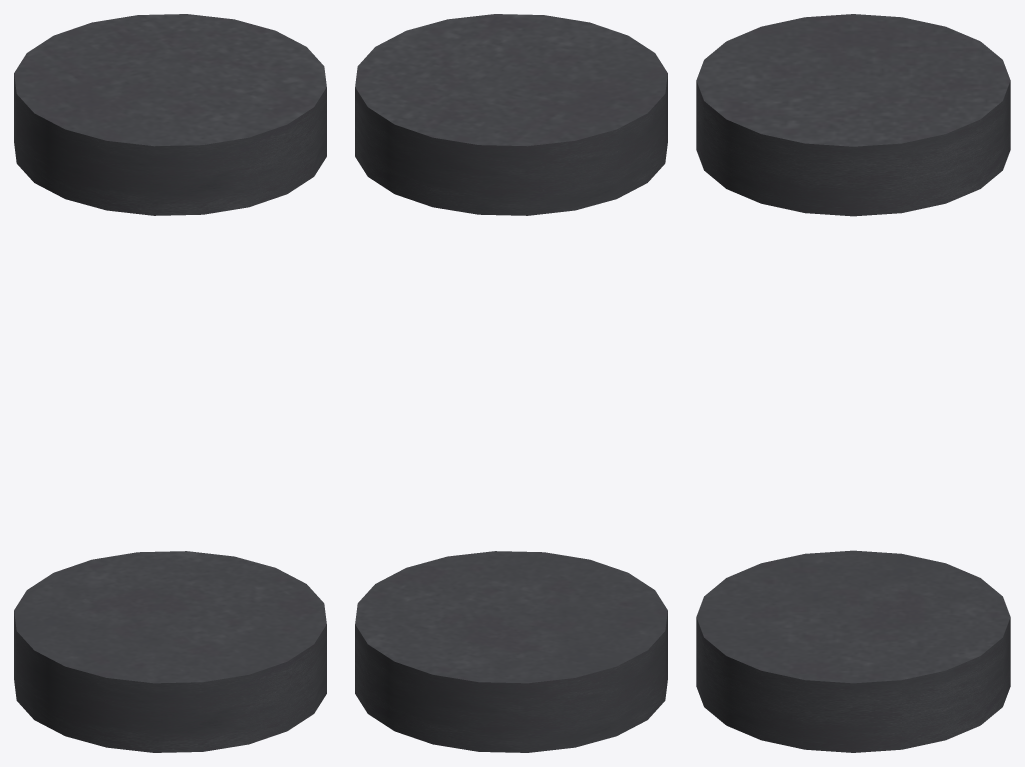
The model's file is Pecera.obj.
The picture shows the model from 3 angles, left to right: view 1: azimuth 30°, elevation 25°; view 2: azimuth 150°, elevation 25°; view 3: azimuth 270°, elevation 25°; orthographic projection.
Visible parts, largest first — view 1: Pecera:polySurface3; view 2: Pecera:polySurface3; view 3: Pecera:polySurface3.
Part boxes in pixels (x1,y1,x2,y2): Pecera:polySurface3: (14, 14, 326, 752); Pecera:polySurface3: (355, 14, 667, 752); Pecera:polySurface3: (696, 14, 1010, 752).
Size of the model in its own units: 4.11 by 8.75 by 4.11.
1 material, 1 textured.
